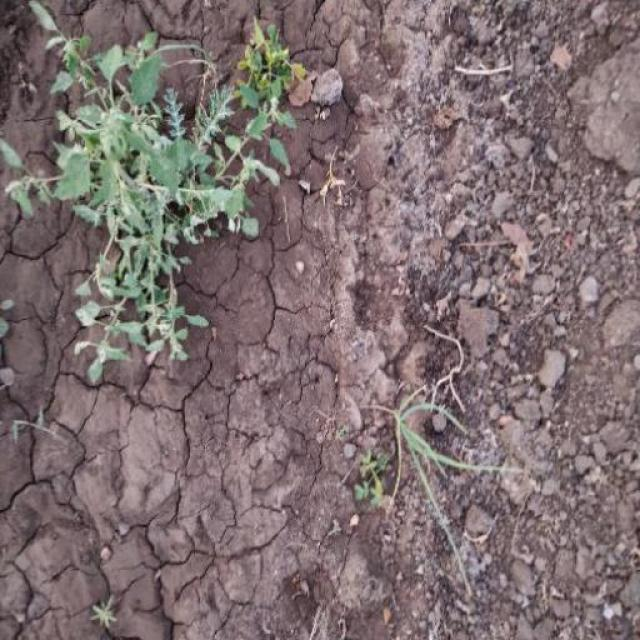weed: (32, 39, 296, 374)
